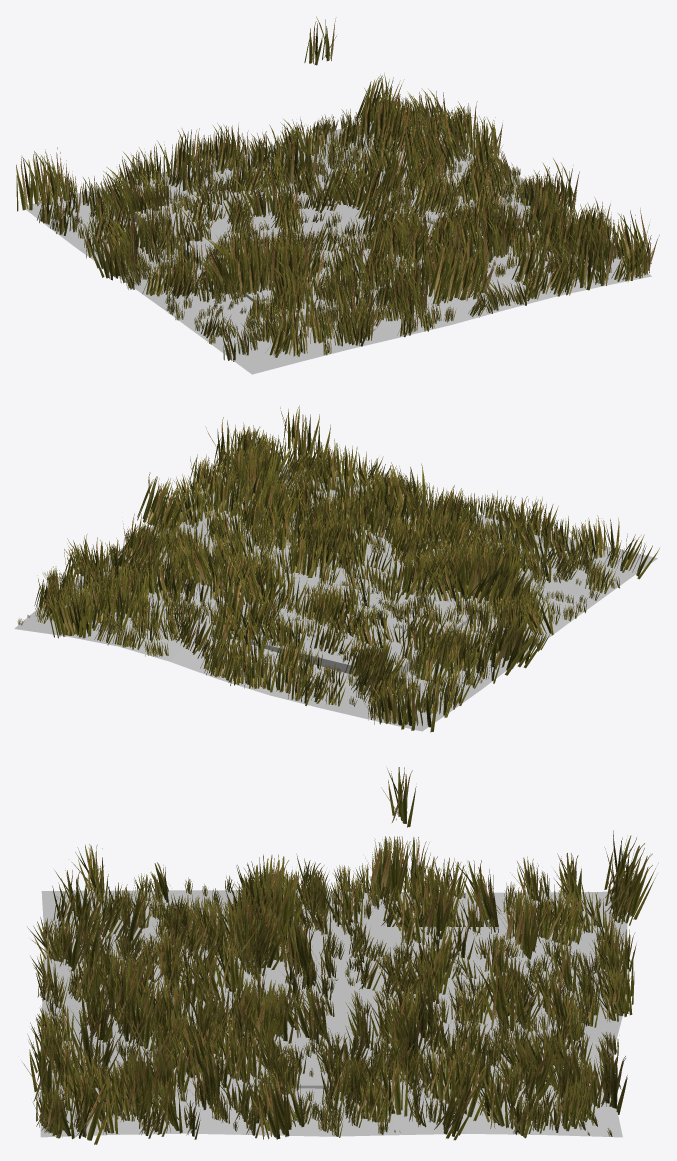
The model's file is Grass.obj.
3 renders of one model, top to bottom at view 1: azimuth 30°, elevation 25°; view 2: azimuth 150°, elevation 25°; view 3: azimuth 270°, elevation 25°, orthographic. The views are drawn at different scales.
Parts seen in each view (by area): view 1: erba_1, Plane, Cube.001; view 2: erba_1, Plane, Cube.001, Cube; view 3: erba_1, Plane, Cube.001.
Part boxes in pixels (left/top/right/bottom): erba_1: left=16, top=16, right=659, bottom=361; Plane: left=25, top=109, right=651, bottom=374; Cube.001: left=135, top=171, right=483, bottom=319; erba_1: left=17, top=405, right=659, bottom=732; Plane: left=14, top=463, right=657, bottom=731; Cube.001: left=199, top=525, right=540, bottom=671; Cube: left=232, top=566, right=540, bottom=678; erba_1: left=22, top=767, right=658, bottom=1144; Plane: left=40, top=890, right=627, bottom=1137; Cube.001: left=145, top=927, right=521, bottom=1085.
Size of what is drawn, in the model's own units: 10.64 by 4.81 by 10.64.
